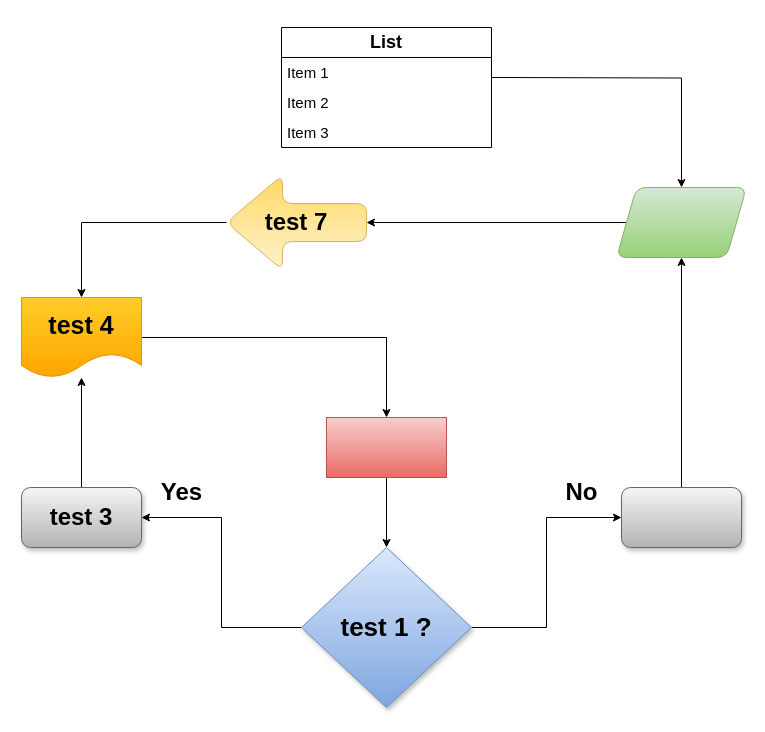
Some shapes in this 765 by 732 pixel diagram are drawn without their labels. The shapes that lost their labels are listed below. From the top down, each one's centre as x and y in pixels, then its label:
At point (681, 222): "test 6".
At point (386, 447): "test 5".
At point (682, 518): "test 2".
